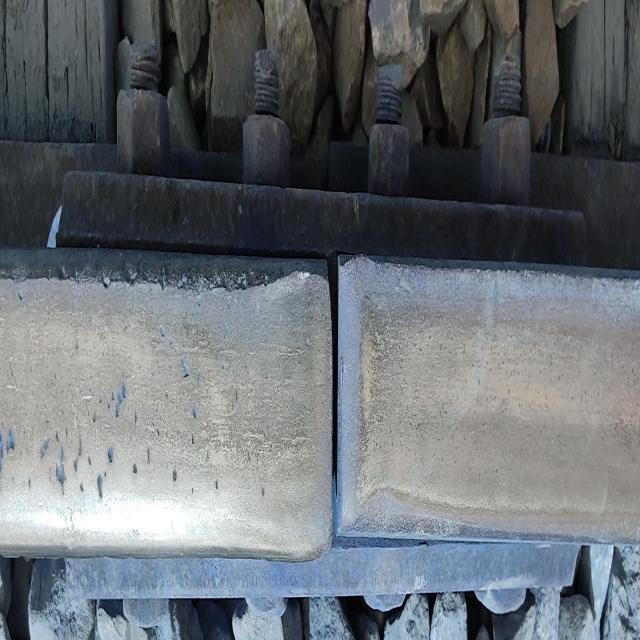Good Joint: (59, 19, 595, 597)
